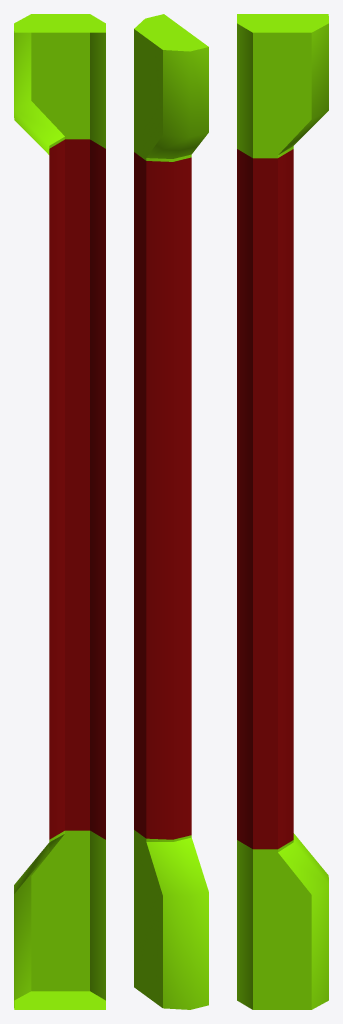
Rendered from Building_Wall_Support_03a_snaps016.fbx.
3 renders of one model, left to right at view 1: azimuth 90°, elevation 25°; view 2: azimuth 210°, elevation 25°; view 3: azimuth 270°, elevation 25°, orthographic.
Parts seen in each view (by area): view 1: Building_Wall_Support_03a_snaps016_LOD0; view 2: Building_Wall_Support_03a_snaps016_LOD0; view 3: Building_Wall_Support_03a_snaps016_LOD0.
Boxes of the visible parts, x1=… form: Building_Wall_Support_03a_snaps016_LOD0: x1=14, y1=14, x2=105, y2=1009; Building_Wall_Support_03a_snaps016_LOD0: x1=134, y1=14, x2=208, y2=1009; Building_Wall_Support_03a_snaps016_LOD0: x1=237, y1=14, x2=328, y2=1009.
Size of what is drawn, in the model's own units: 0.247 by 6 by 0.5107.
